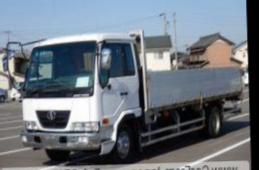truck: (18, 23, 245, 165)
